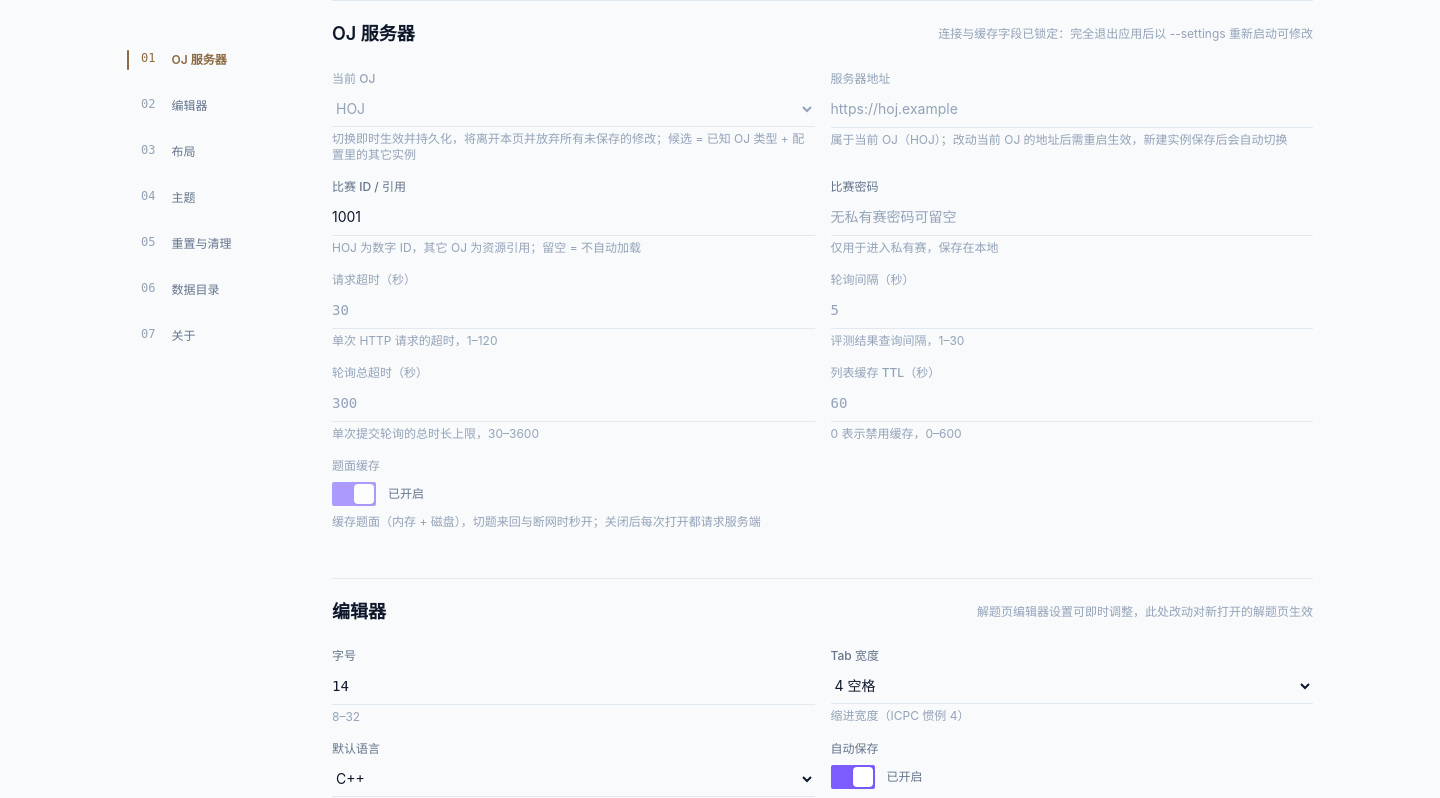
SettingsView 行为表征（结构拆分前） › 非法数字实时显示字段级错误，修正后消失
Expected: the label "请求超时（秒） 单次 HTTP 请求的超时，1–120" is shown, [332,272,814,349]
Replace the text in the field labelled "请求超时（秒） 单次 HTTP 请求的超时，1–120" with "abc" at (573, 310), box [332,292,814,329]
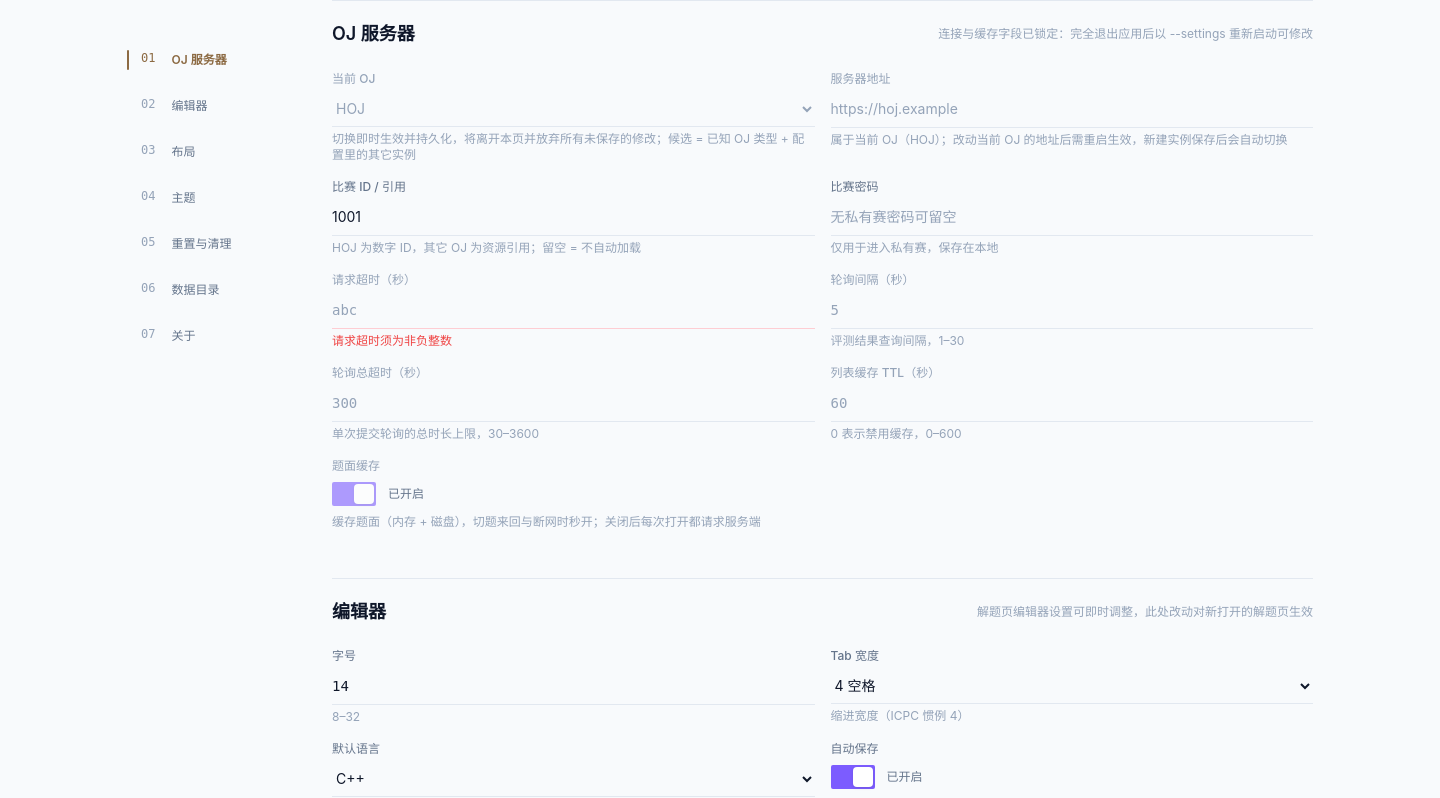
Now the text "请求超时须为非负整数" is shown, box [332,333,452,348]
Replace the text in the field labelled "请求超时（秒） 请求超时须为非负整数" with "30" at (573, 310), box [332,292,814,329]
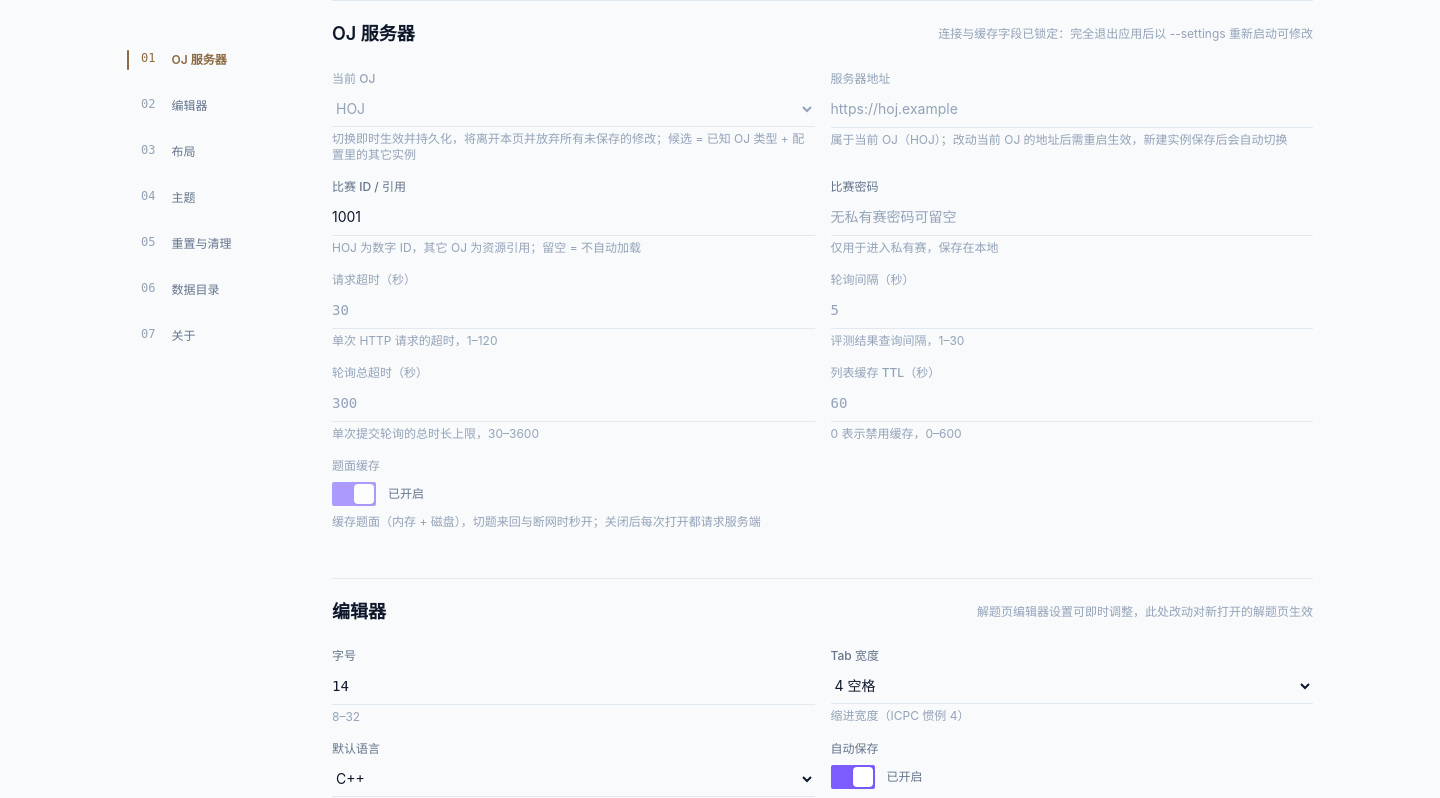
Now the text "请求超时须为非负整数" is gone
